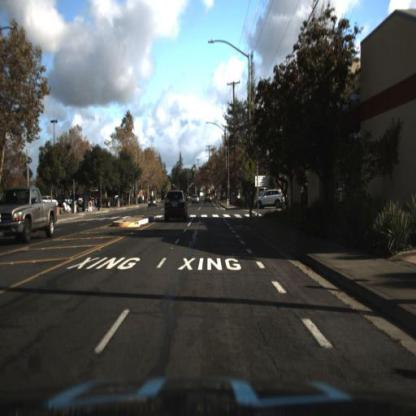car: (2, 185, 59, 251), (161, 182, 195, 229), (165, 190, 189, 224), (254, 191, 287, 208), (148, 195, 159, 211), (204, 191, 215, 207), (192, 194, 202, 207)
pedestrian: (246, 187, 254, 211), (95, 191, 102, 215)
